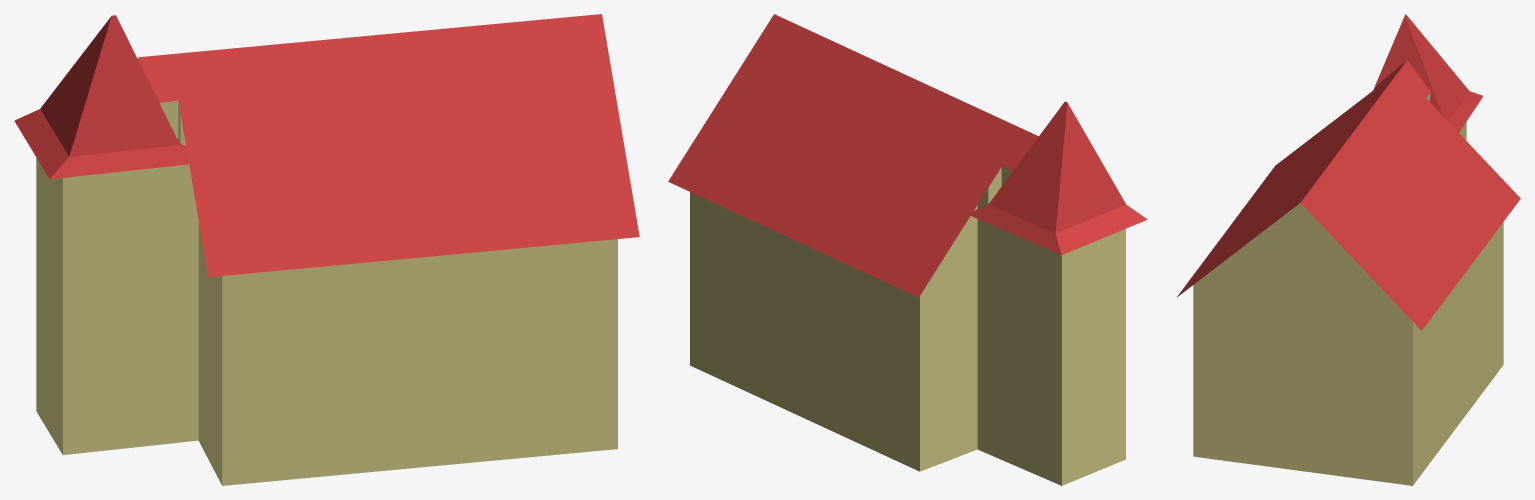
3 renders of one model, left to right at view 1: azimuth 30°, elevation 25°; view 2: azimuth 150°, elevation 25°; view 3: azimuth 270°, elevation 25°, orthographic. The views are drawn at different scales.
Bounding box in the file's own units: 25.66 × 18.97 × 18.86.
